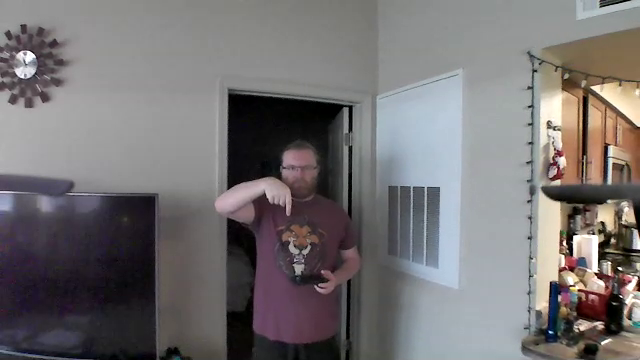down: (261, 171, 297, 219)
